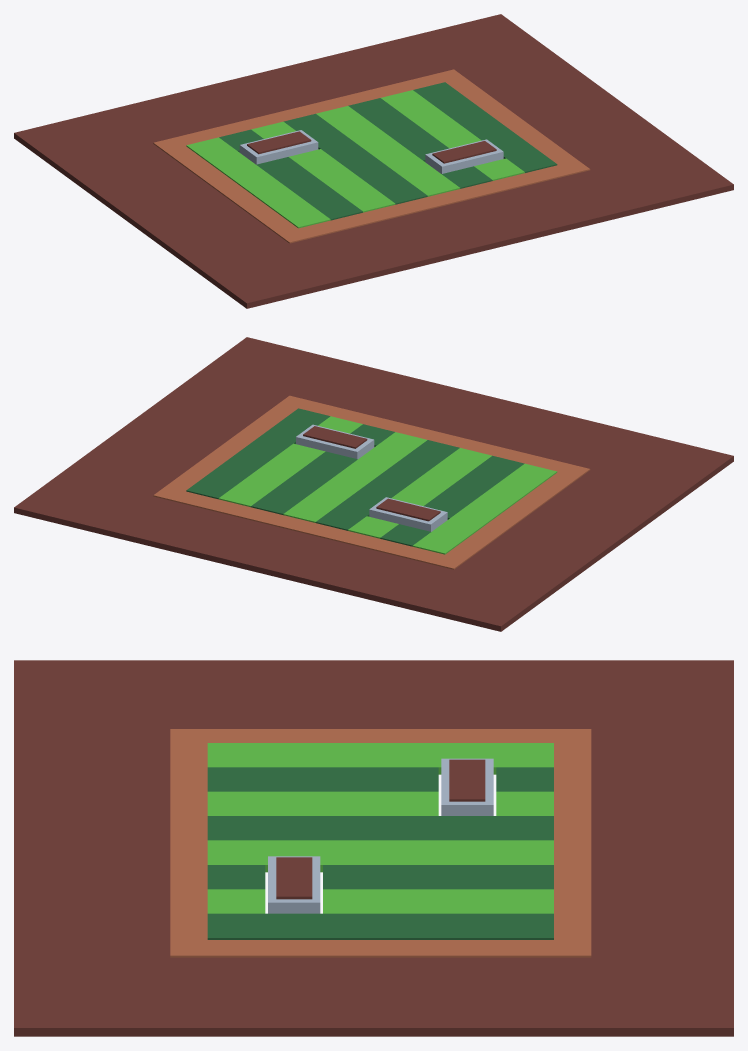
File: ground.glb
The picture shows the model from 3 angles, top to bottom: view 1: azimuth 30°, elevation 25°; view 2: azimuth 150°, elevation 25°; view 3: azimuth 270°, elevation 25°; orthographic projection. The views are drawn at different scales.
Parts seen in each view (by area): view 1: SoilS, Lawn, SoilN, SoilW, SoilE, PathS, PathN, PathW, PathE, Kerb0, Kerb1, Bed0 (+1 smaller); view 2: Lawn, SoilN, SoilS, SoilW, SoilE, PathN, PathS, PathW, PathE, Kerb0, Kerb1, Bed0 (+1 smaller); view 3: Lawn, SoilS, SoilN, SoilE, SoilW, PathN, PathS, PathE, PathW, Kerb0, Kerb1, Bed0 (+1 smaller).
Boxes of the visible parts, <box> form: SoilS: <box>196,147,733,308</box>; Lawn: <box>186,82,557,228</box>; SoilN: <box>14,14,546,171</box>; SoilW: <box>60,144,288,271</box>; SoilE: <box>455,48,682,169</box>; PathS: <box>277,160,590,243</box>; PathN: <box>153,69,465,152</box>; PathW: <box>165,146,297,234</box>; PathE: <box>447,78,577,165</box>; Kerb0: <box>239,130,318,164</box>; Kerb1: <box>425,139,503,173</box>; Bed0: <box>247,131,311,154</box>; Lawn: <box>186,408,557,554</box>; SoilN: <box>14,474,547,631</box>; SoilS: <box>197,337,733,498</box>; SoilW: <box>454,470,683,597</box>; SoilE: <box>60,374,287,496</box>; PathN: <box>153,486,465,569</box>; PathS: <box>278,395,590,478</box>; PathW: <box>445,472,577,560</box>; PathE: <box>166,404,296,491</box>; Kerb0: <box>369,497,447,531</box>; Kerb1: <box>296,424,374,459</box>; Bed0: <box>376,498,440,521</box>; Lawn: <box>207,743,553,939</box>; SoilS: <box>14,660,170,1036</box>; SoilN: <box>591,660,733,1036</box>; SoilE: <box>170,957,591,1036</box>; SoilW: <box>170,660,591,728</box>; PathN: <box>554,729,591,957</box>; PathS: <box>170,729,207,957</box>; PathE: <box>207,940,553,957</box>; PathW: <box>207,729,553,742</box>; Kerb0: <box>441,758,493,815</box>; Kerb1: <box>268,856,320,913</box>; Bed0: <box>449,759,485,801</box>.
Bounding box in the file's own units: 12.8 × 0.4 × 10.6.
